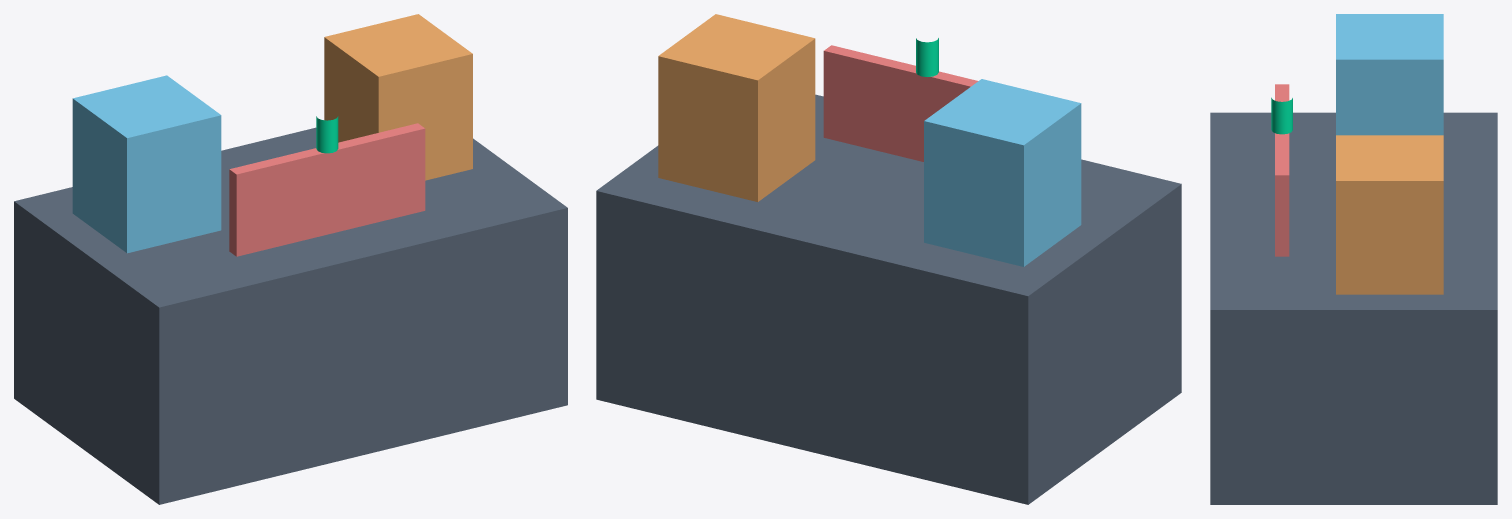
Rendered from network_administration.glb.
3 views of the same model, side by side, from view 1: azimuth 30°, elevation 25°; view 2: azimuth 150°, elevation 25°; view 3: azimuth 270°, elevation 25° (orthographic). The views are drawn at different scales.
Parts seen in each view (by area): view 1: SNMPConsoleDesk, DNSResolverTower, FirewallShieldPlate, DHCPGatewayTower, OpticalStatusLEDs; view 2: SNMPConsoleDesk, DNSResolverTower, DHCPGatewayTower, FirewallShieldPlate, OpticalStatusLEDs; view 3: SNMPConsoleDesk, DHCPGatewayTower, DNSResolverTower, FirewallShieldPlate, OpticalStatusLEDs.
Part boxes in pixels (x1=…): SNMPConsoleDesk: x1=14, y1=127, x2=567, y2=504; DNSResolverTower: x1=72, y1=75, x2=221, y2=253; FirewallShieldPlate: x1=229, y1=123, x2=425, y2=256; DHCPGatewayTower: x1=324, y1=14, x2=472, y2=180; OpticalStatusLEDs: x1=316, y1=116, x2=338, y2=153; SNMPConsoleDesk: x1=596, y1=94, x2=1181, y2=504; DNSResolverTower: x1=924, y1=79, x2=1081, y2=266; DHCPGatewayTower: x1=658, y1=14, x2=815, y2=201; FirewallShieldPlate: x1=823, y1=45, x2=978, y2=161; OpticalStatusLEDs: x1=916, y1=38, x2=938, y2=76; SNMPConsoleDesk: x1=1210, y1=112, x2=1497, y2=504; DHCPGatewayTower: x1=1336, y1=135, x2=1443, y2=294; DNSResolverTower: x1=1336, y1=14, x2=1443, y2=135; FirewallShieldPlate: x1=1275, y1=84, x2=1289, y2=256; OpticalStatusLEDs: x1=1271, y1=97, x2=1292, y2=134.
Bounding box in the file's own units: 2.6 × 1.9 × 1.6.
